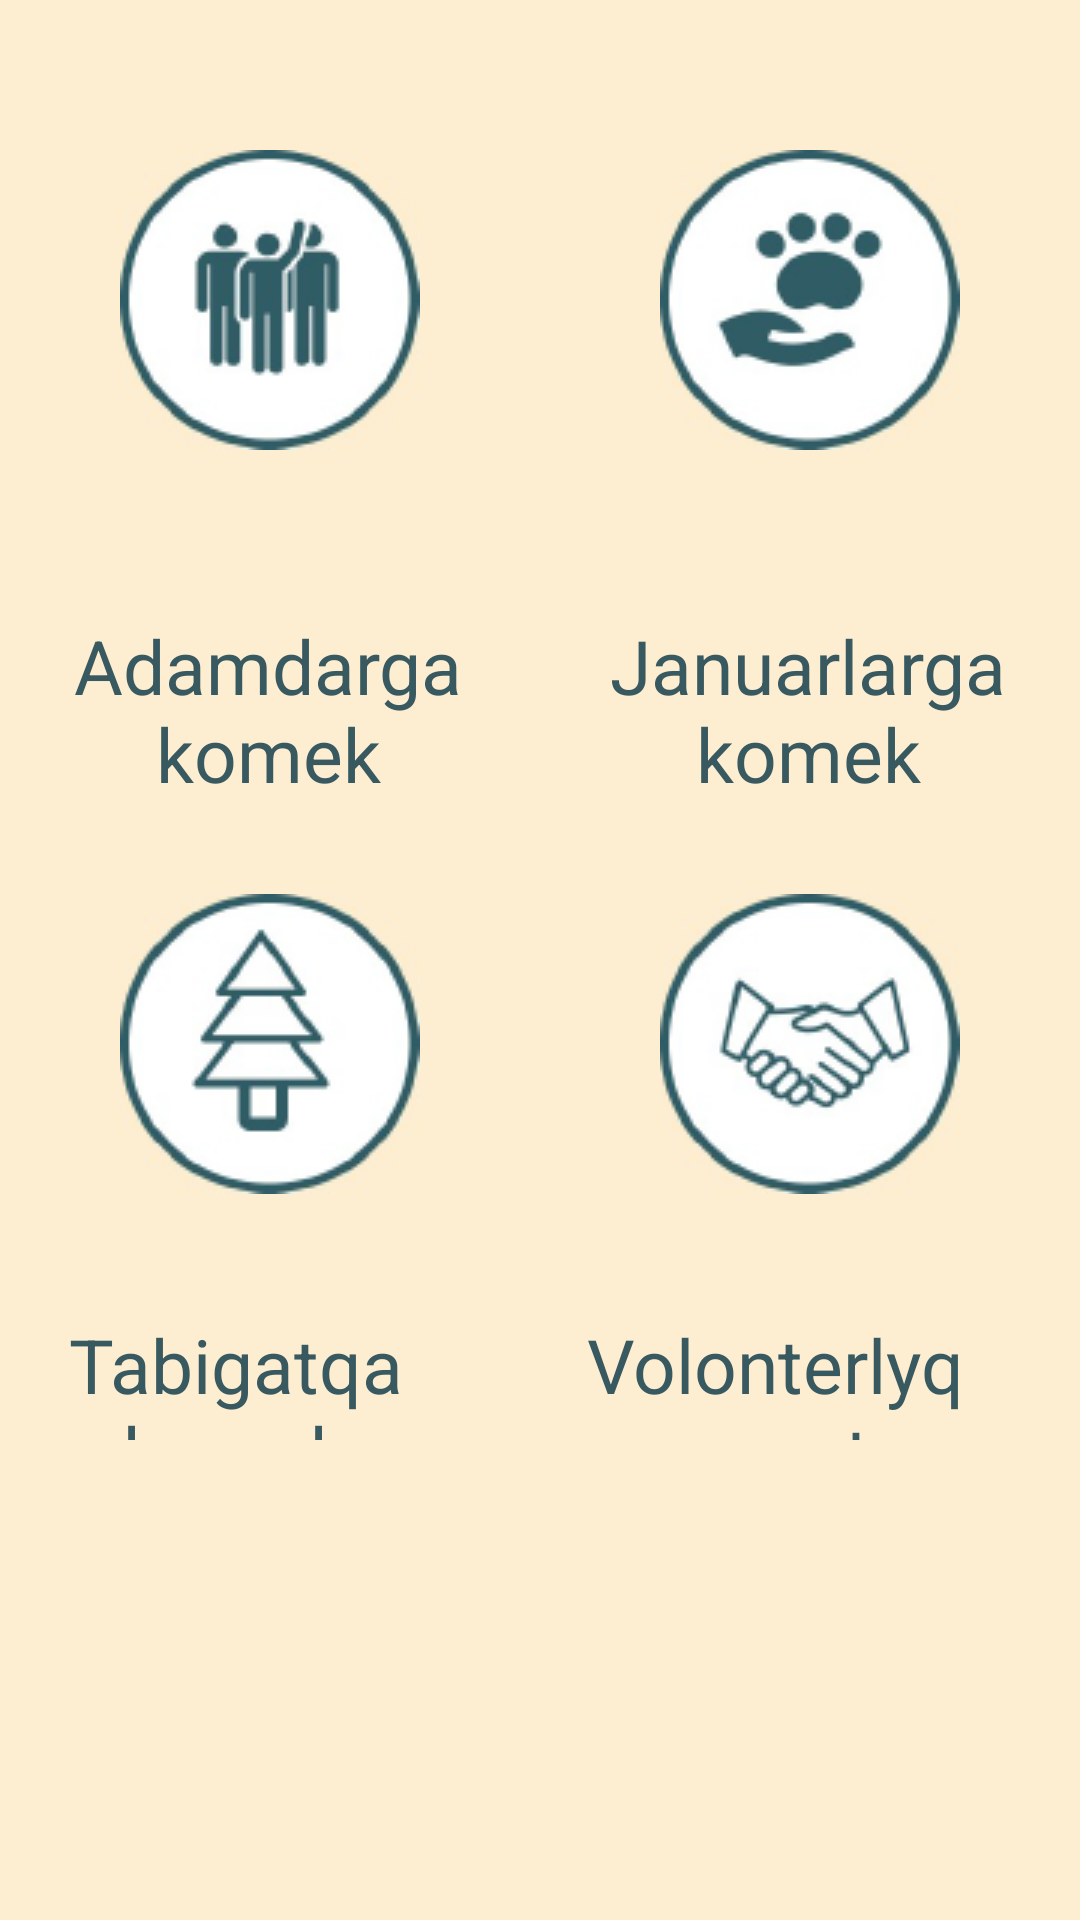

Screen size 1080 x 1920. Icon name, then its box in pixels as (left=x1, top=y1, right=x2, bottom=y2):
adam: (left=120, top=150, right=420, bottom=450)
animal: (left=660, top=150, right=960, bottom=450)
elka: (left=120, top=894, right=420, bottom=1194)
